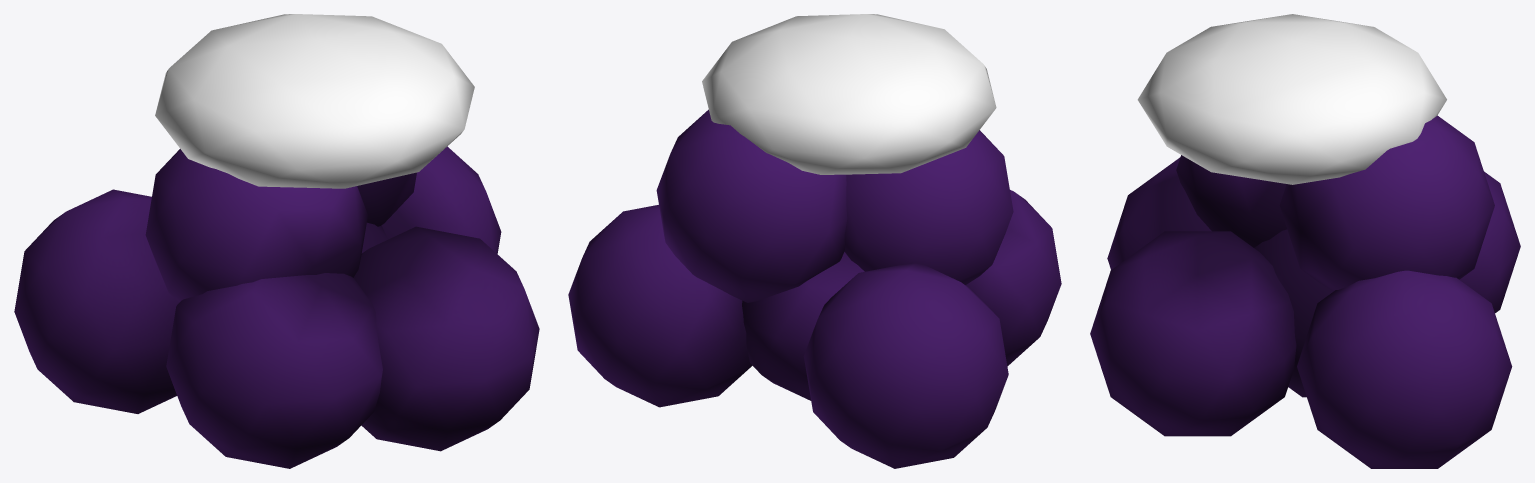
Rendered from berry-cluster.obj.
3 views of the same model, side by side, from view 1: azimuth 30°, elevation 25°; view 2: azimuth 150°, elevation 25°; view 3: azimuth 270°, elevation 25° (orthographic). The views are drawn at different scales.
Parts seen in each view (by area): view 1: berry-cluster; view 2: berry-cluster; view 3: berry-cluster.
Part boxes in pixels (x1,y1,x2,y2): berry-cluster: (14,14,539,468); berry-cluster: (568,14,1061,468); berry-cluster: (1090,14,1520,468).
Size of the model in its own units: 0.2271 by 0.185 by 0.2.
